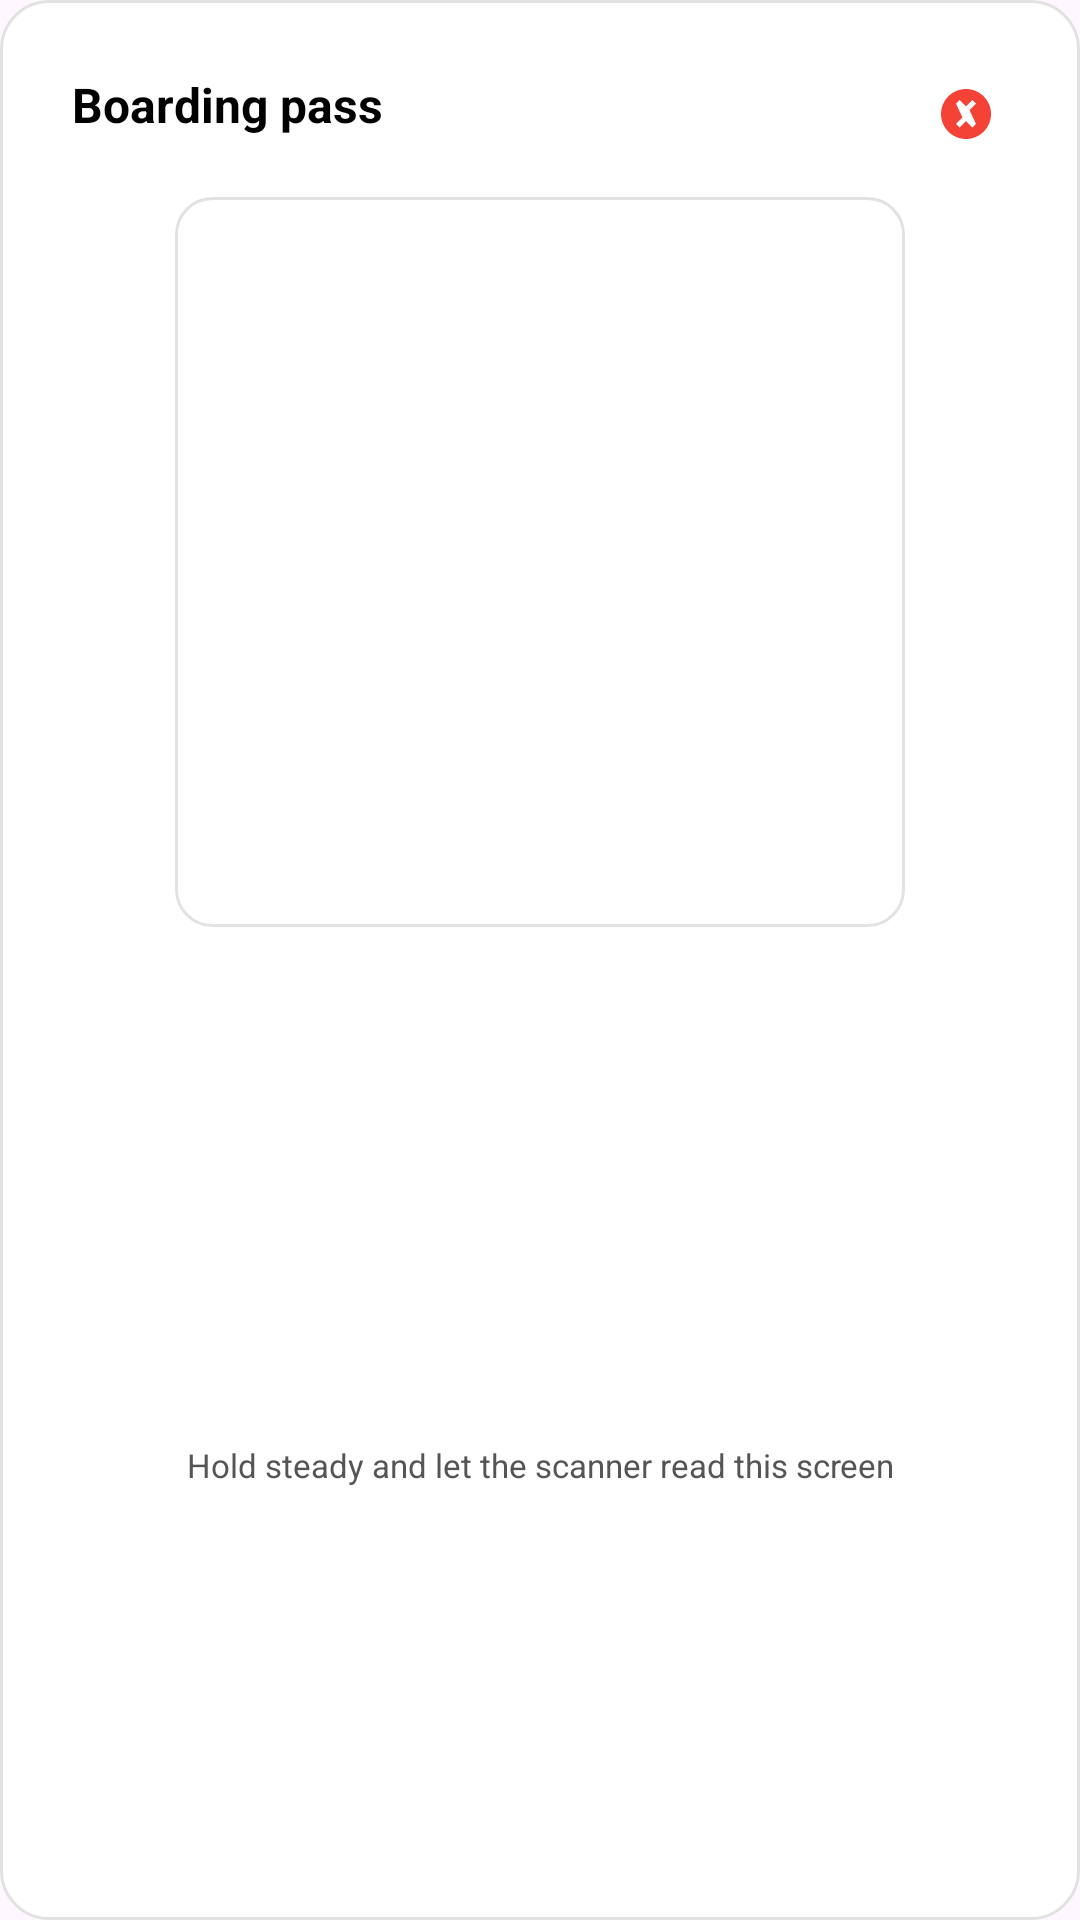

Named icons in this screenshot (1080px x 1920px) and their centers, [x,y]:
Close: [966,114]
